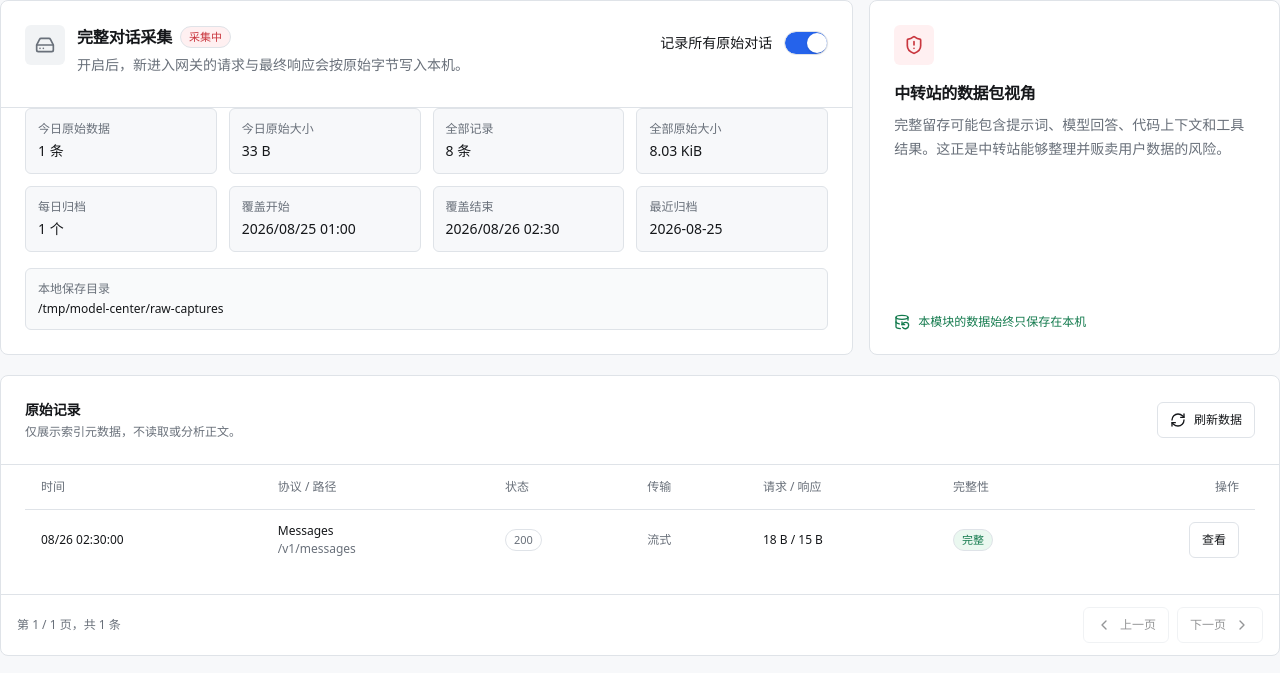
RawDataClient › ignores a stale mutation response and performs one coherent authoritative refresh
What coordinates should you click on to do the following:
click the switch named "记录所有原始对话"
I would click on:
 (806, 43)
Its box is x1=784 y1=31 x2=828 y2=55.
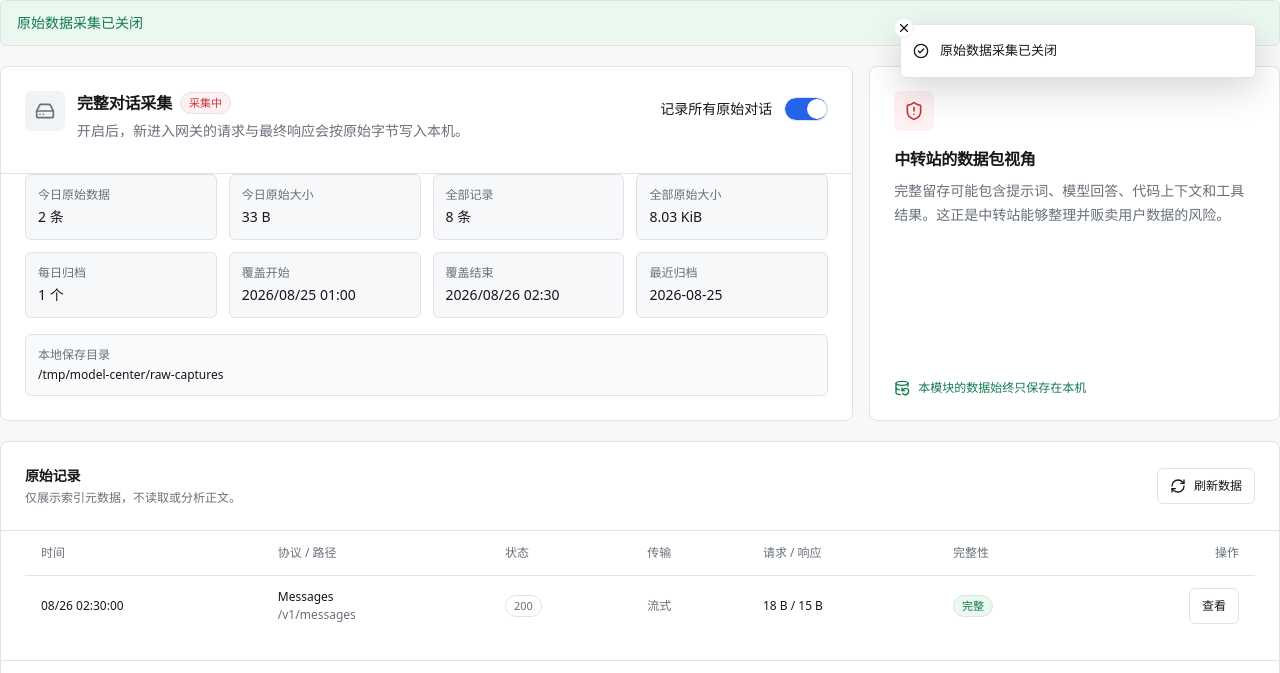
Expected: the switch named "记录所有原始对话" is checked, x1=784 y1=97 x2=828 y2=121
Expected: the message reads "原始数据采集已关闭", x1=17 y1=13 x2=143 y2=32
Expected: the text "2 条" is shown, x1=38 y1=207 x2=64 y2=226
